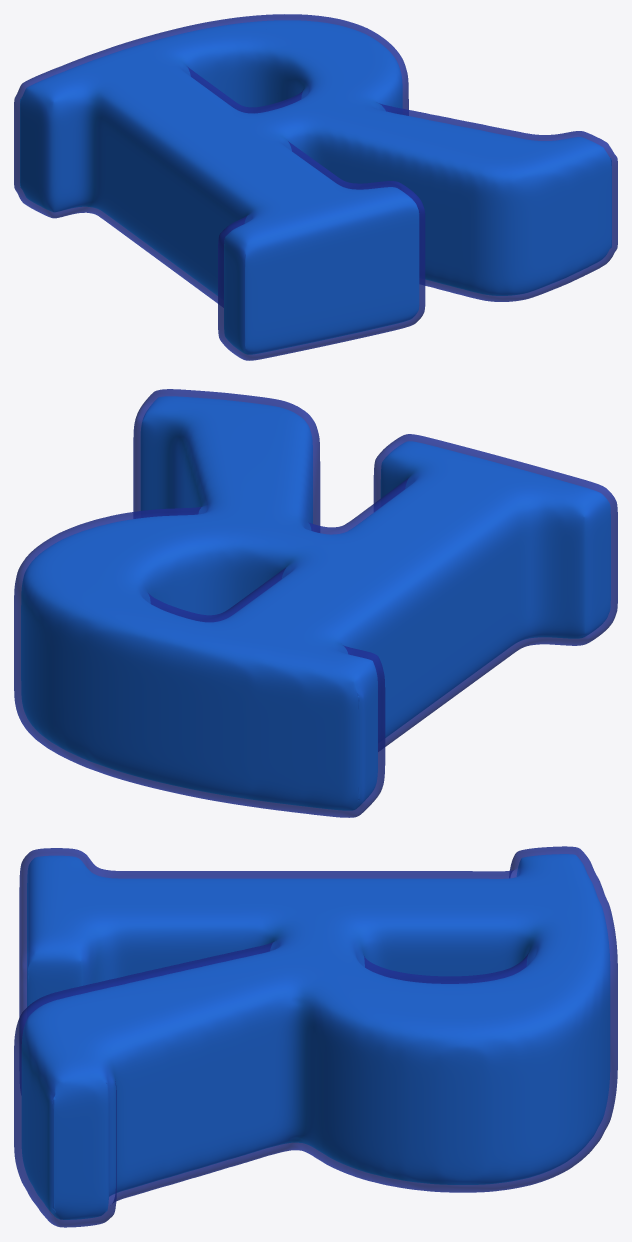
The model's file is altered-r-shapes.glb.
The picture shows the model from 3 angles, top to bottom: view 1: azimuth 30°, elevation 25°; view 2: azimuth 150°, elevation 25°; view 3: azimuth 270°, elevation 25°; orthographic projection. The views are drawn at different scales.
Visible parts, largest first — view 1: Altered_R_Membrane, Altered_R_Luminous_Core; view 2: Altered_R_Membrane, Altered_R_Luminous_Core; view 3: Altered_R_Membrane, Altered_R_Luminous_Core.
Part boxes in pixels (x1=…): Altered_R_Membrane: x1=14, y1=14, x2=617, y2=360; Altered_R_Luminous_Core: x1=20, y1=20, x2=611, y2=354; Altered_R_Membrane: x1=14, y1=389, x2=617, y2=817; Altered_R_Luminous_Core: x1=21, y1=396, x2=610, y2=810; Altered_R_Membrane: x1=14, y1=846, x2=617, y2=1227; Altered_R_Luminous_Core: x1=22, y1=854, x2=609, y2=1219.
Bounding box in the file's own units: 0.8974 × 0.304 × 0.9534.
